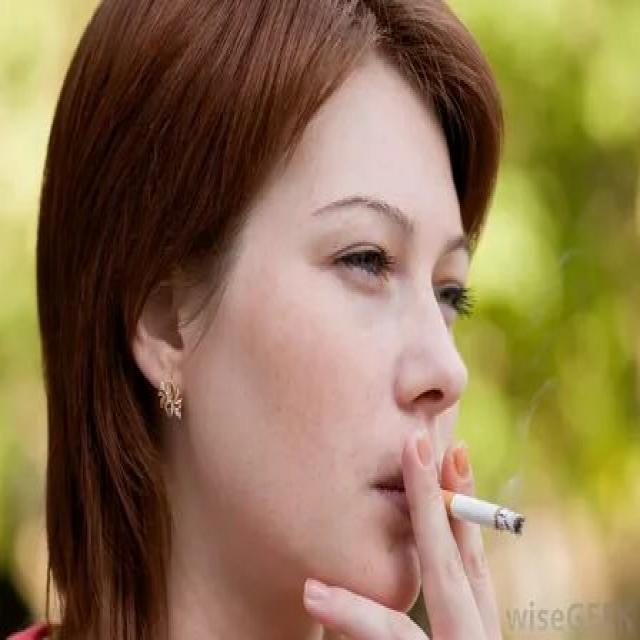smoke: (436, 478, 530, 540)
